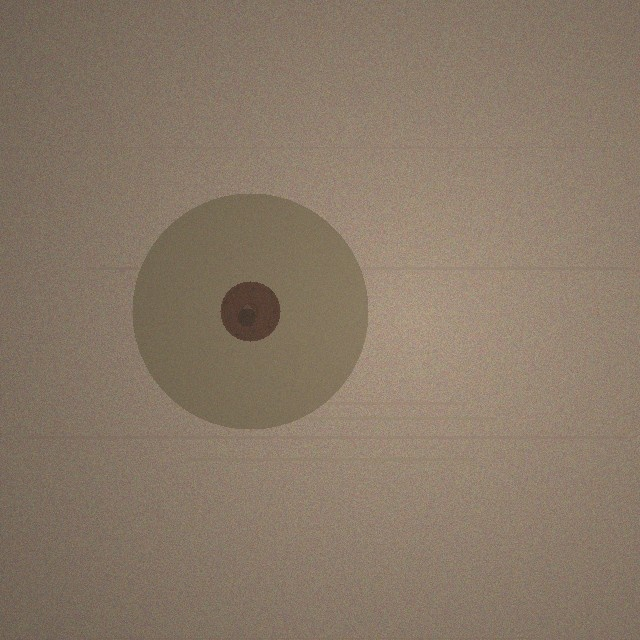cold_weld: (132, 193, 368, 429)
